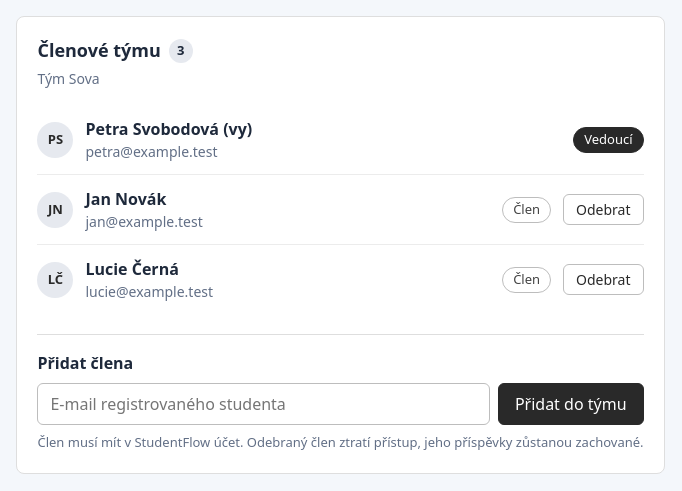
Test: ProjectMembers removal › keeps only one confirmation open and closes it with "Zrušit"
Later steps or results of the test are not shown.
Click the button "Odebrat" in the row of "JN" at (603, 210), box x1=563 y1=194 x2=644 y2=225
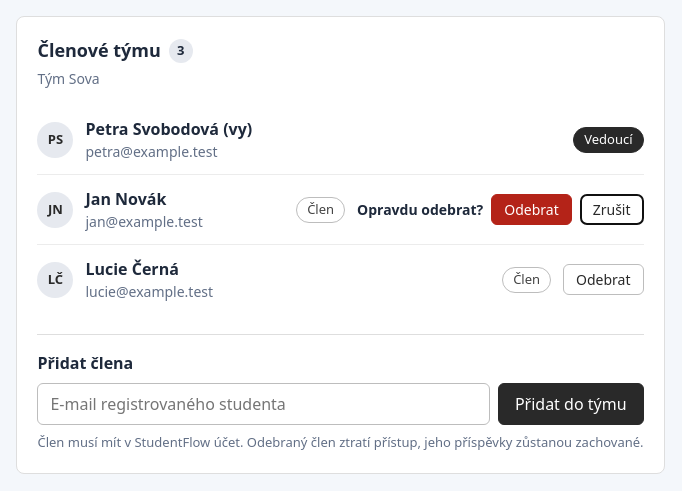
Click the button "Odebrat" in the row of "LČ" at (603, 280), box x1=563 y1=264 x2=644 y2=295
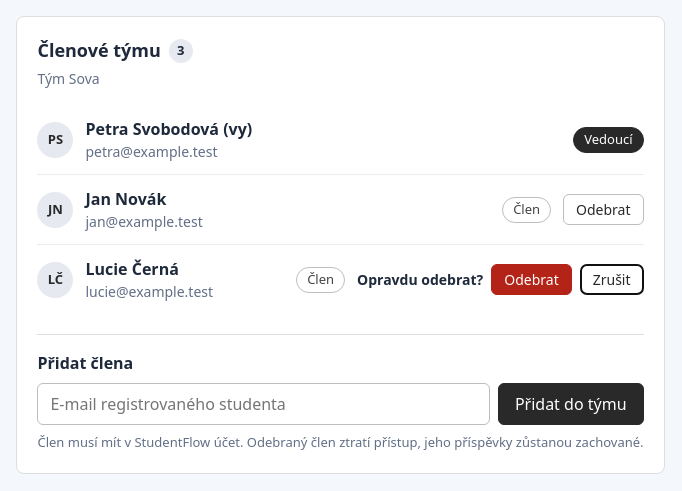
Check: the element named "Opravdu odebrat? Lucie Černá" is shown, box x1=357 y1=264 x2=644 y2=295
